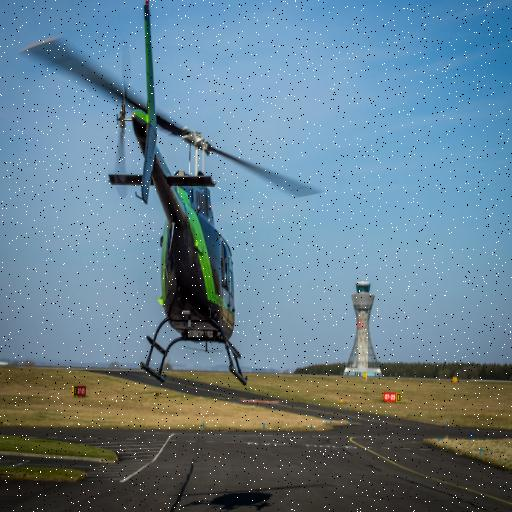helicopter: (23, 1, 322, 390)
